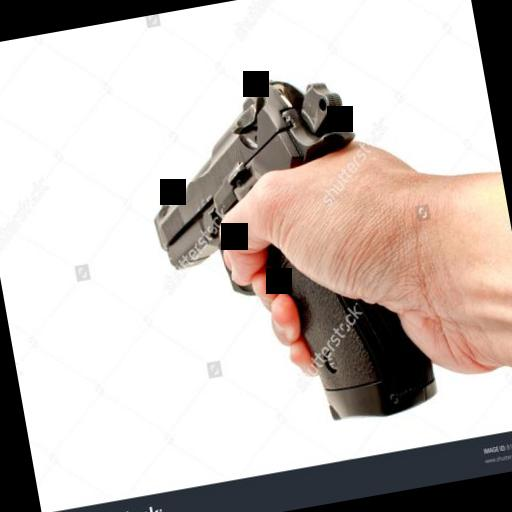Handgun: (130, 54, 438, 442)
